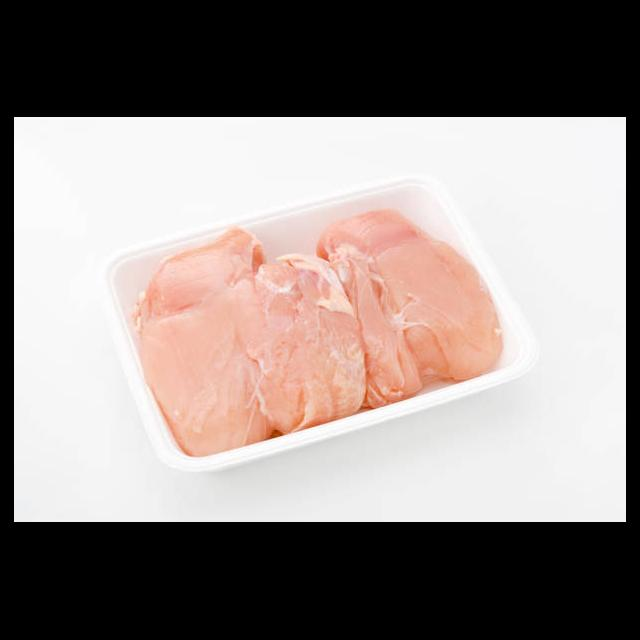chicken: (136, 208, 501, 450)
